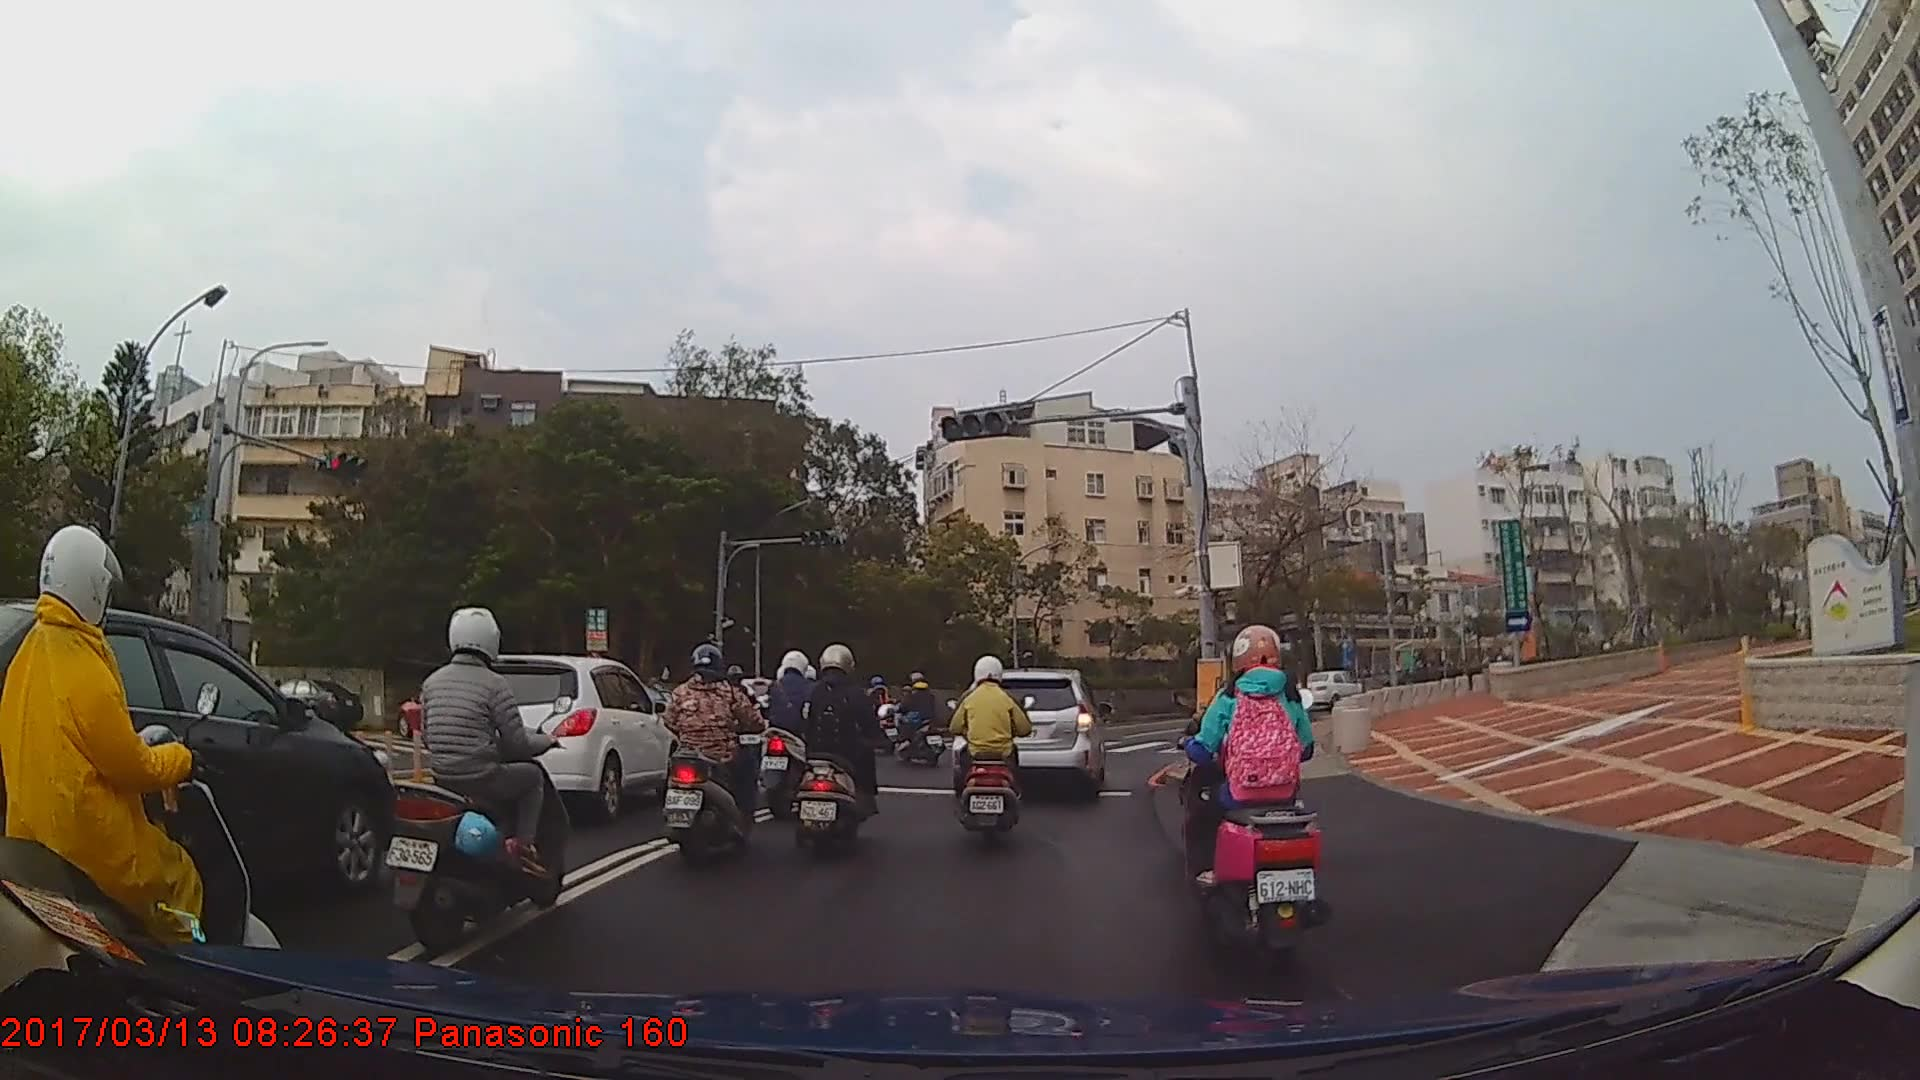rider: (2, 526, 285, 1028), (387, 606, 575, 954), (1182, 626, 1325, 949), (656, 642, 773, 870), (789, 641, 888, 859), (945, 656, 1037, 842), (758, 647, 828, 816), (883, 671, 948, 770), (855, 674, 903, 757)
vehicle: (0, 598, 398, 941), (439, 653, 682, 822), (955, 668, 1107, 799), (260, 677, 364, 733), (1299, 669, 1368, 705)
